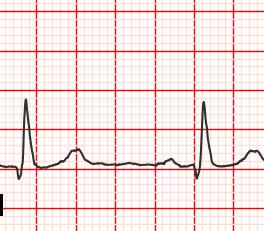Pathological Q Wave: (12, 159, 26, 183), (191, 161, 205, 181)
